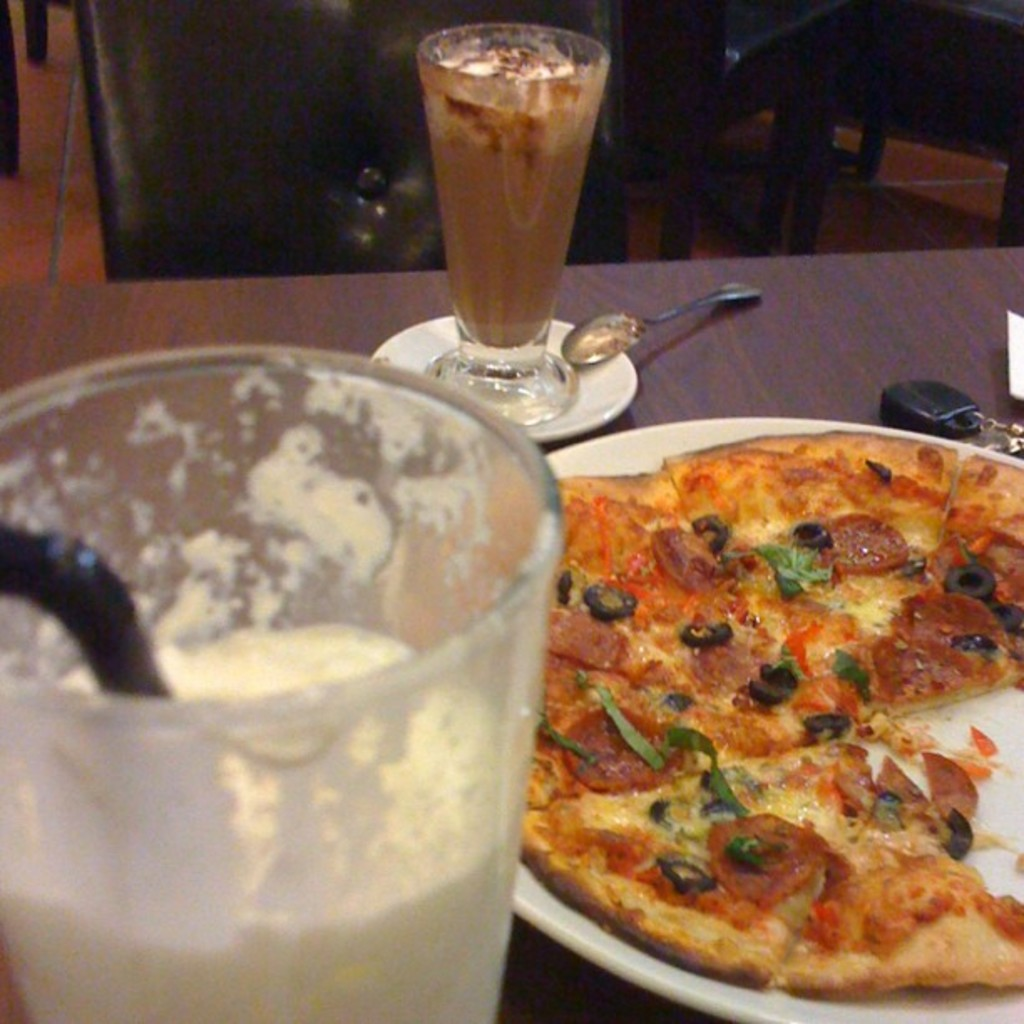Pizza: (398, 426, 1022, 995)
